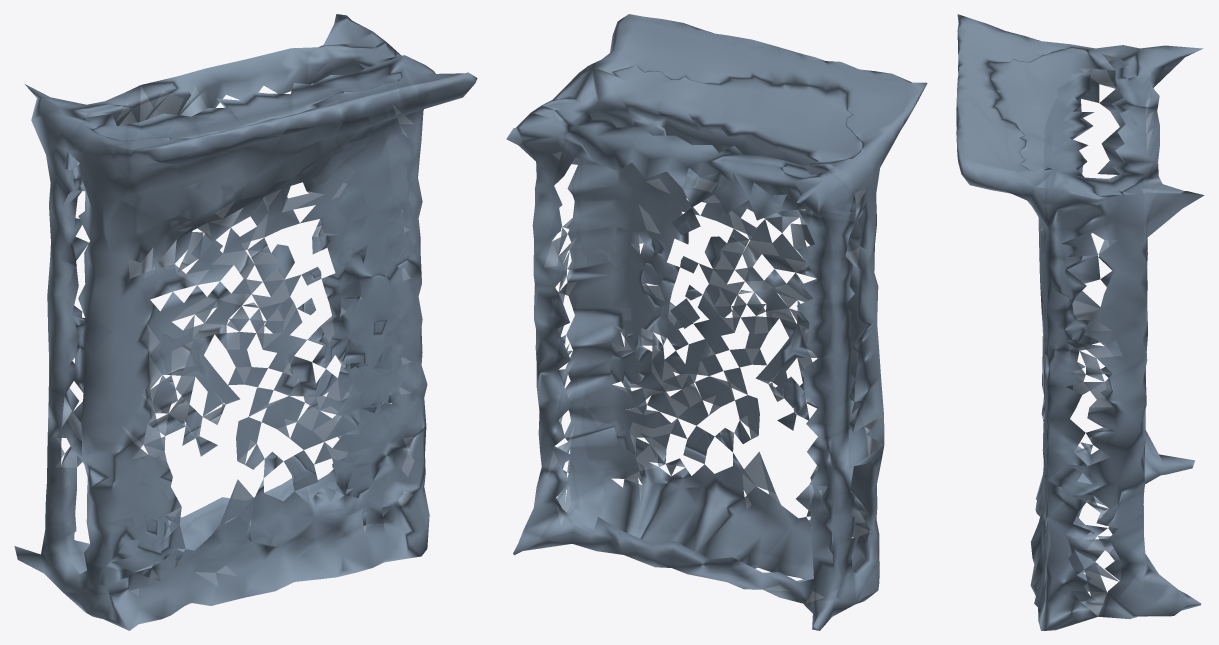
File: sample_100_recon.obj
3 renders of one model, left to right at view 1: azimuth 30°, elevation 25°; view 2: azimuth 150°, elevation 25°; view 3: azimuth 270°, elevation 25°, orthographic. The views are drawn at different scales.
Size of the model in its own units: 1.02 by 1.48 by 0.6993.
